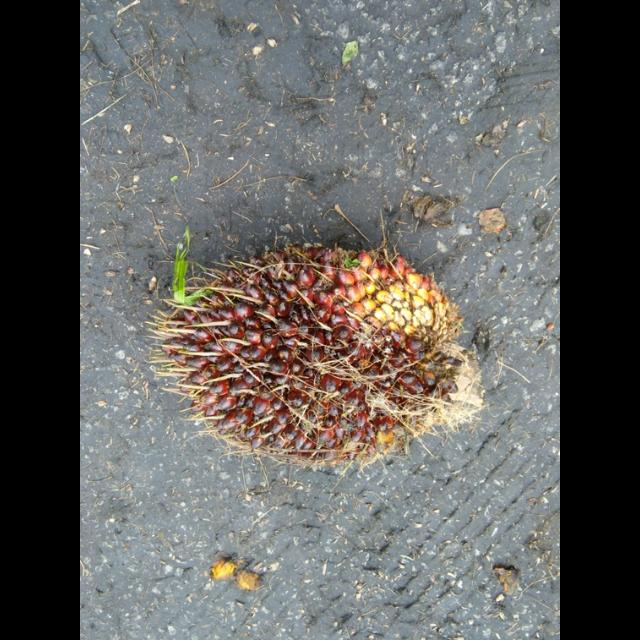Ripe: (154, 238, 484, 472)
